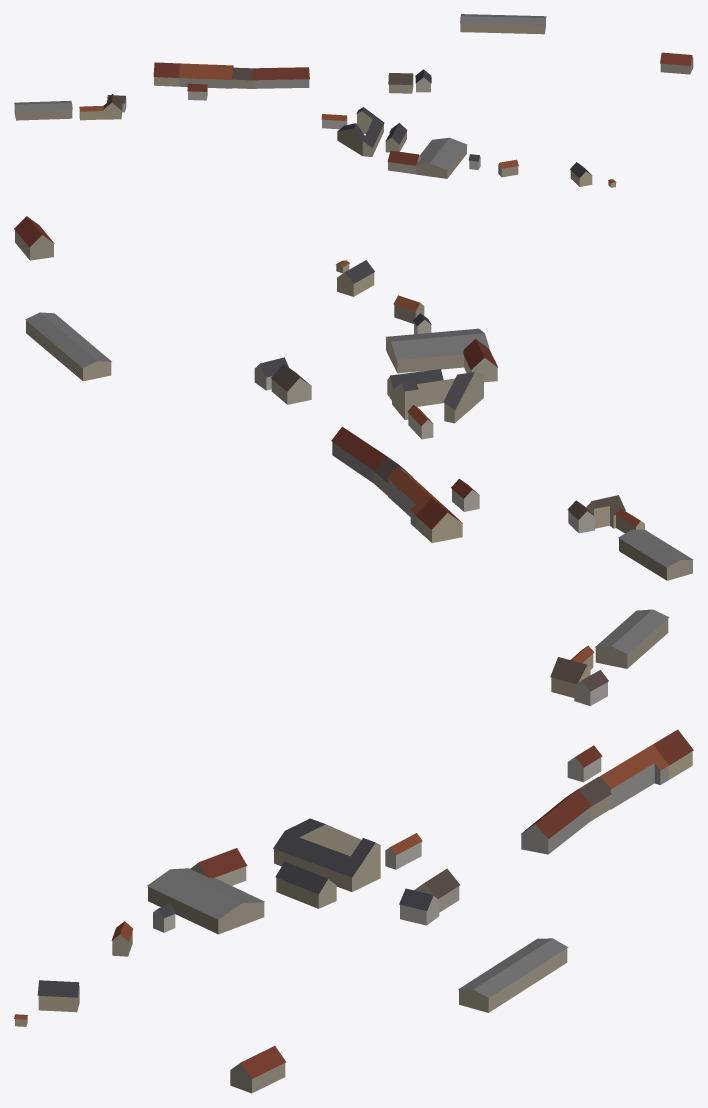
3 views of the same model, one above another, from view 1: azimuth 30°, elevation 25°; view 2: azimuth 150°, elevation 25°; view 3: azimuth 270°, elevation 25° (orthographic). The views are drawn at different scales.
Parts seen in each view (by area): view 1: buildings; view 2: buildings; view 3: buildings.
Part boxes in pixels (x1=…): buildings: x1=14, y1=14, x2=693, y2=187; buildings: x1=14, y1=216, x2=693, y2=580; buildings: x1=14, y1=609, x2=693, y2=1093.
Size of the model in its own units: 390 by 35.42 by 240.
